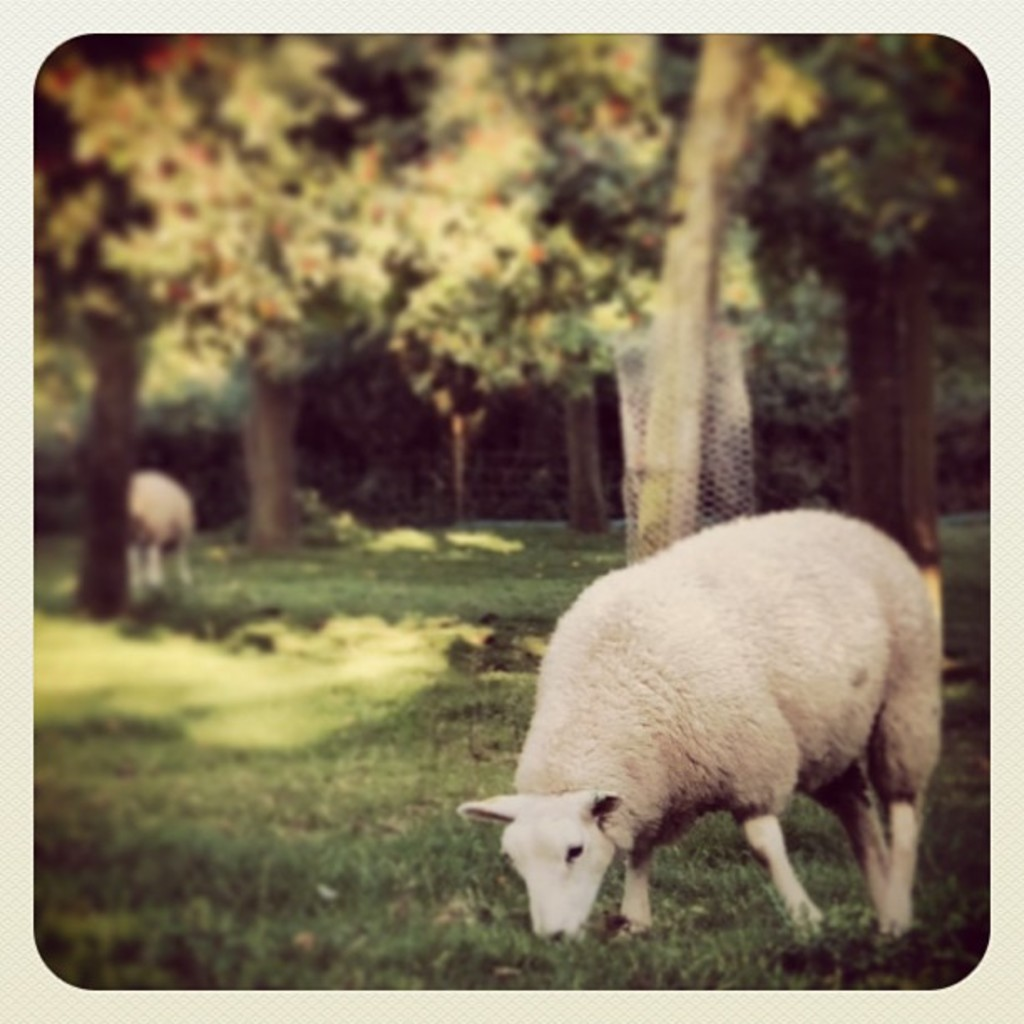sheep: (123, 470, 194, 602)
